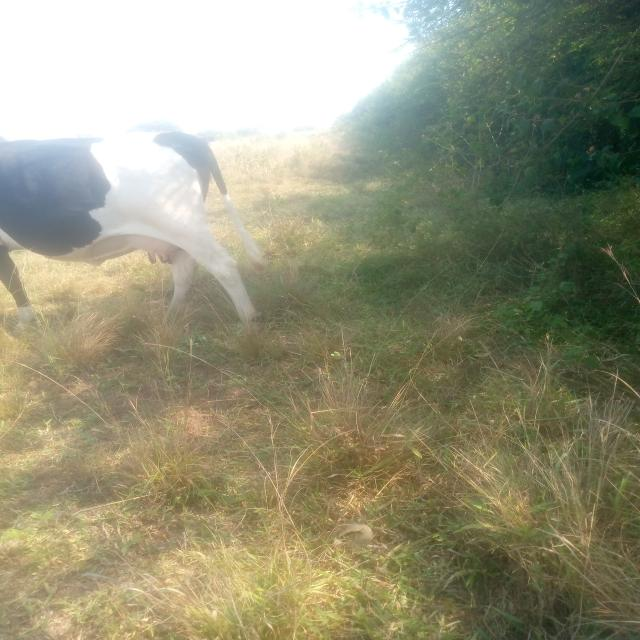cow: (0, 60, 323, 417)
